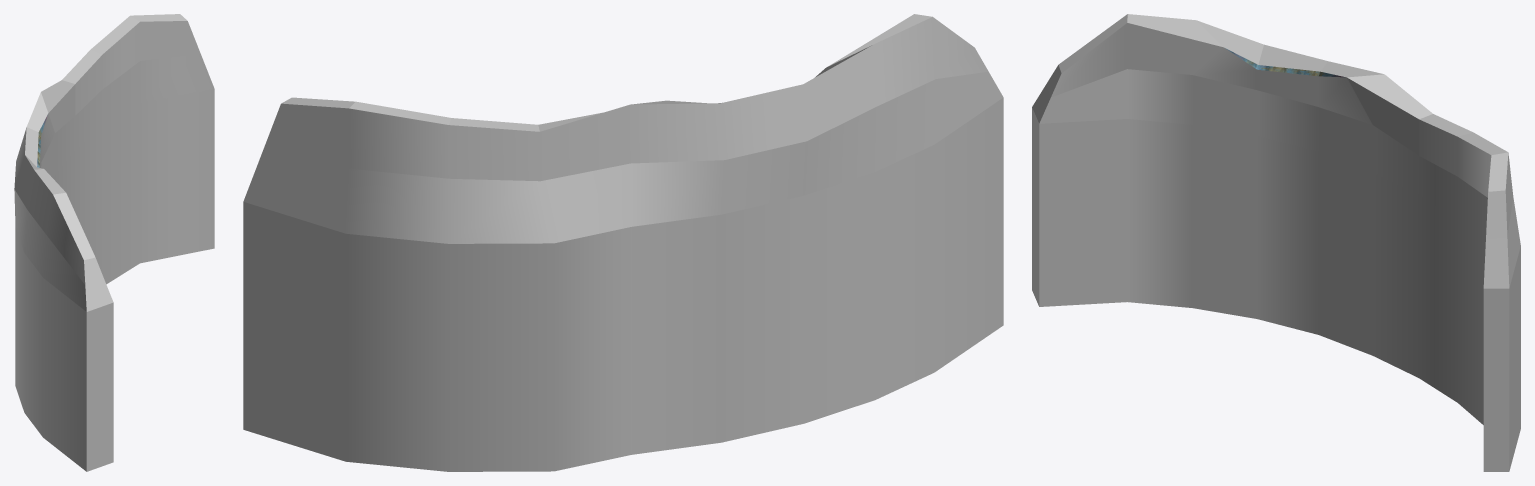
The model's file is Str_Ruins_07_Art.fbx.
3 views of the same model, side by side, from view 1: azimuth 30°, elevation 25°; view 2: azimuth 150°, elevation 25°; view 3: azimuth 270°, elevation 25° (orthographic). The views are drawn at different scales.
Parts seen in each view (by area): view 1: Str_Ruins_07; view 2: Str_Ruins_07; view 3: Str_Ruins_07.
Part boxes in pixels (box(x1,y1,x2,y2)): Str_Ruins_07: box(14, 14, 214, 471); Str_Ruins_07: box(243, 14, 1003, 471); Str_Ruins_07: box(1032, 14, 1520, 471).
Size of what is drawn, in the model's own units: 850 by 613 by 967.
